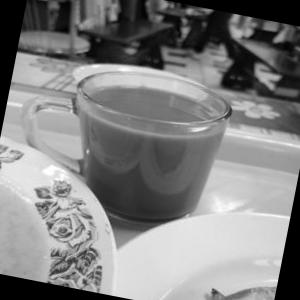coffee: (22, 44, 251, 244)
